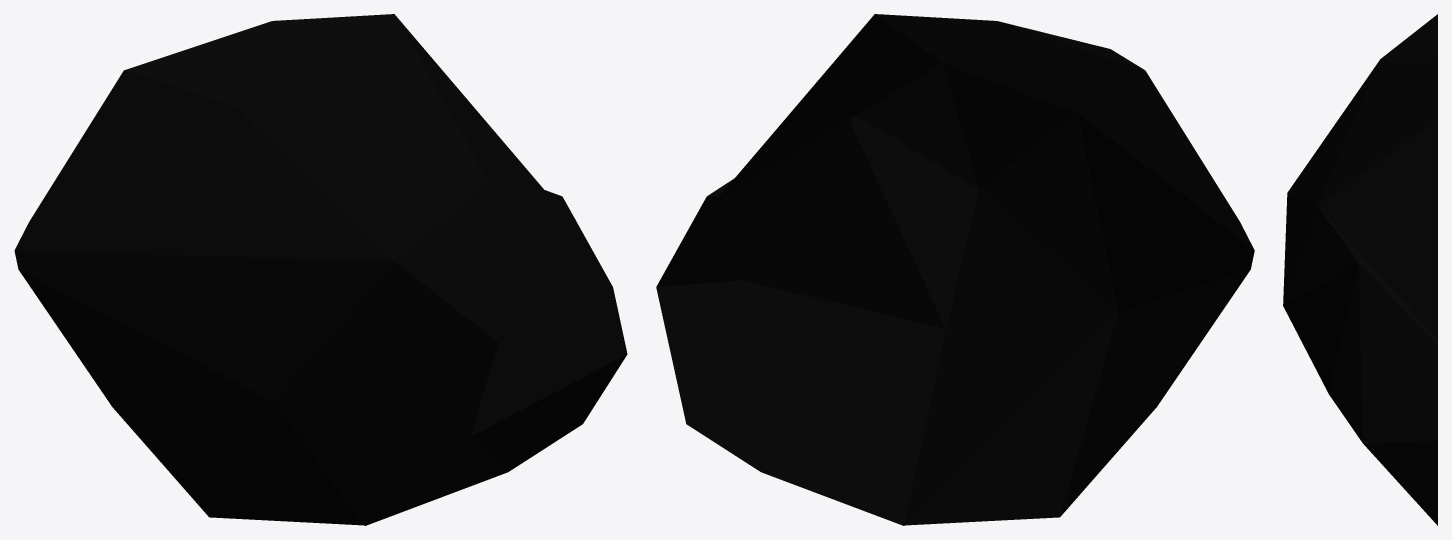
The picture shows the model from 3 angles, left to right: view 1: azimuth 30°, elevation 25°; view 2: azimuth 150°, elevation 25°; view 3: azimuth 270°, elevation 25°; orthographic projection. The views are drawn at different scales.
Bounding box in the file's own units: 0.2766 × 0.233 × 0.0835.
Materials: 1 (1 with a texture image).
